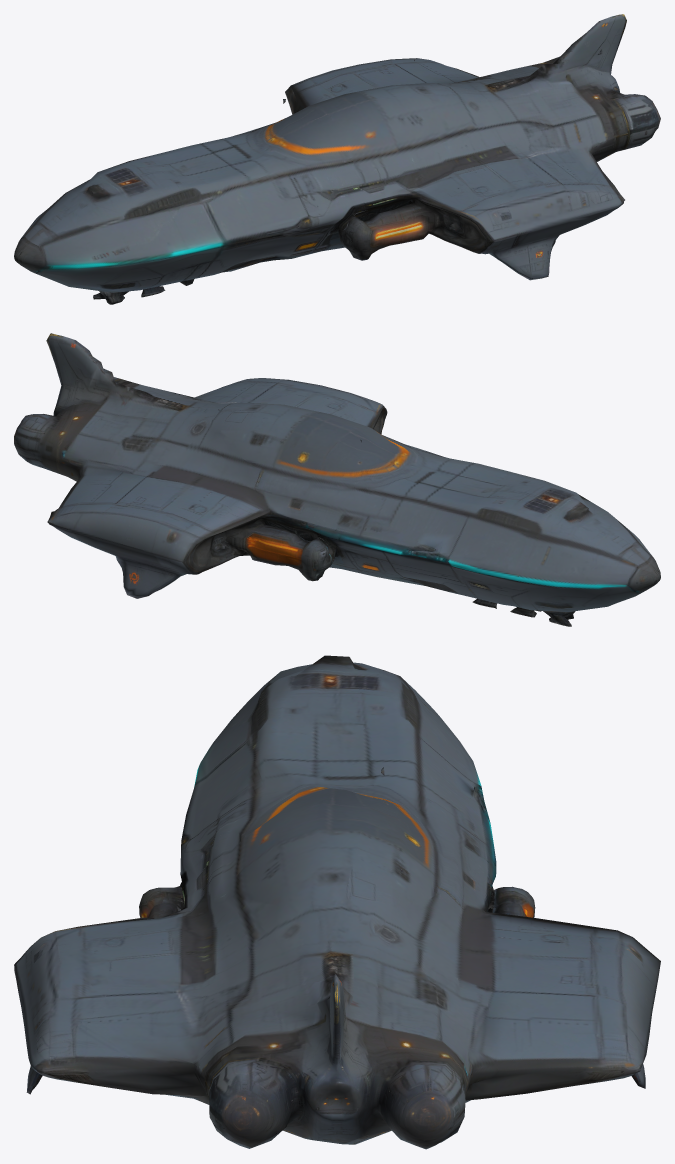
Rendered from sci_fi_cyberpunk_flying_ship.glb.
3 views of the same model, one above another, from view 1: azimuth 30°, elevation 25°; view 2: azimuth 150°, elevation 25°; view 3: azimuth 270°, elevation 25° (orthographic). The views are drawn at different scales.
Bounding box in the file's own units: 1.89 × 0.4791 × 1.1.
1 material, 1 textured.
